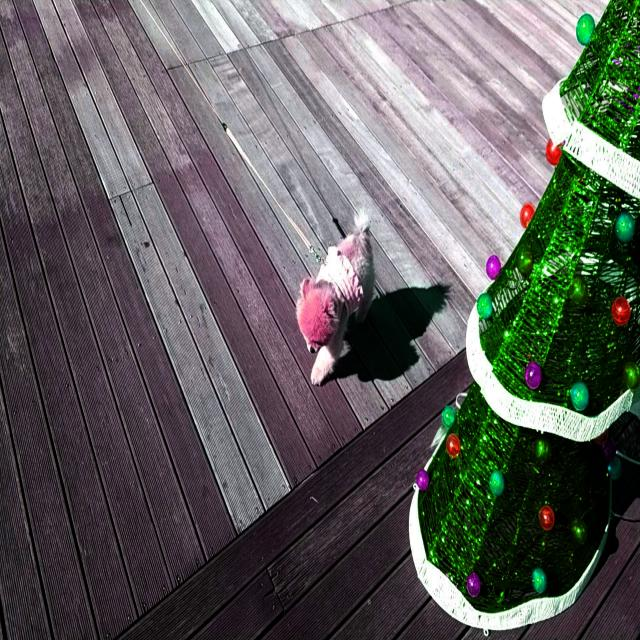Dog: (295, 208, 375, 386)
